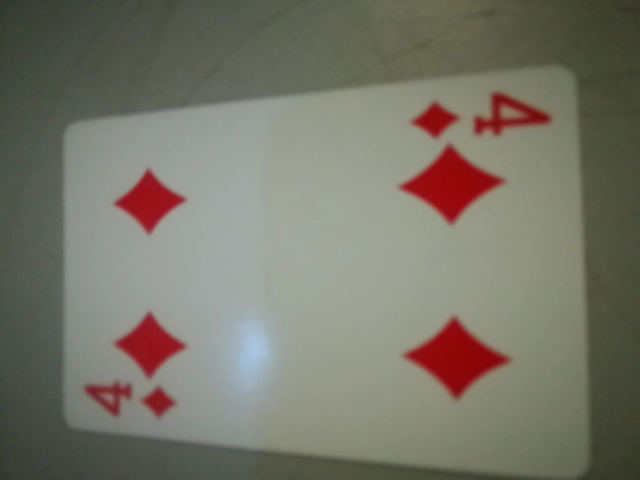fk 4: (389, 86, 572, 171)
